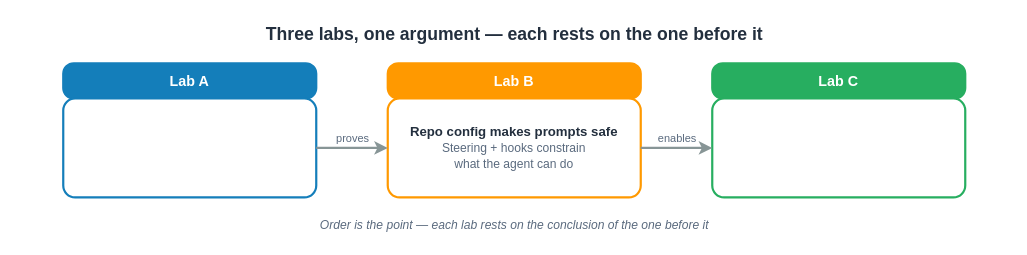
The diagram is 1027 pixels wide and 255 high, and some of its shapes have lost their labels. Each missing label, with the box of its shape:
Prove policy offline Gatekeeper constraints pass before any cluster exists: (62, 97, 317, 198)
Thin prompt → compliant app One sentence triggers full dual-overlay scaffolding: (711, 97, 966, 198)
